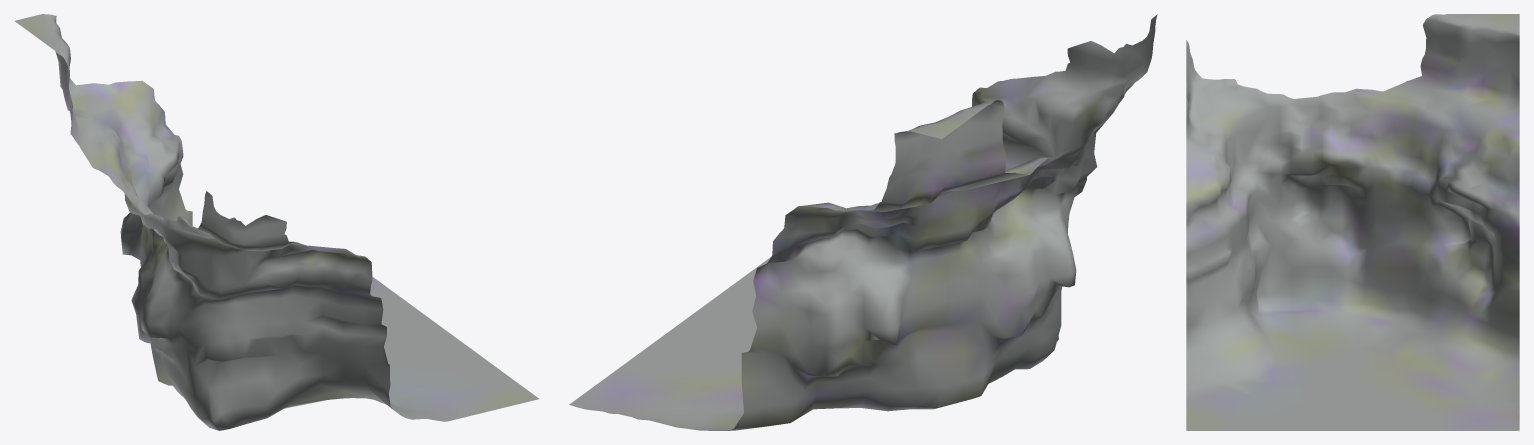
3 views of the same model, side by side, from view 1: azimuth 30°, elevation 25°; view 2: azimuth 150°, elevation 25°; view 3: azimuth 270°, elevation 25° (orthographic). The views are drawn at different scales.
Parts seen in each view (by area): view 1: G:\FFXIV-MapTools\exports\y6f2\bg\ex5\02_ykt_y6\fld\y6f2\bgp (×3); view 2: G:\FFXIV-MapTools\exports\y6f2\bg\ex5\02_ykt_y6\fld\y6f2\bgp (×3); view 3: G:\FFXIV-MapTools\exports\y6f2\bg\ex5\02_ykt_y6\fld\y6f2\bgp (×3).
Part boxes in pixels (x1,y1,x2,y2): G:\FFXIV-MapTools\exports\y6f2\bg\ex5\02_ykt_y6\fld\y6f2\bgp (×3): (15, 14, 538, 430); G:\FFXIV-MapTools\exports\y6f2\bg\ex5\02_ykt_y6\fld\y6f2\bgp (×3): (569, 14, 1157, 430); G:\FFXIV-MapTools\exports\y6f2\bg\ex5\02_ykt_y6\fld\y6f2\bgp (×3): (1186, 14, 1519, 430).
Size of the model in its own units: 128 by 117 by 128.
